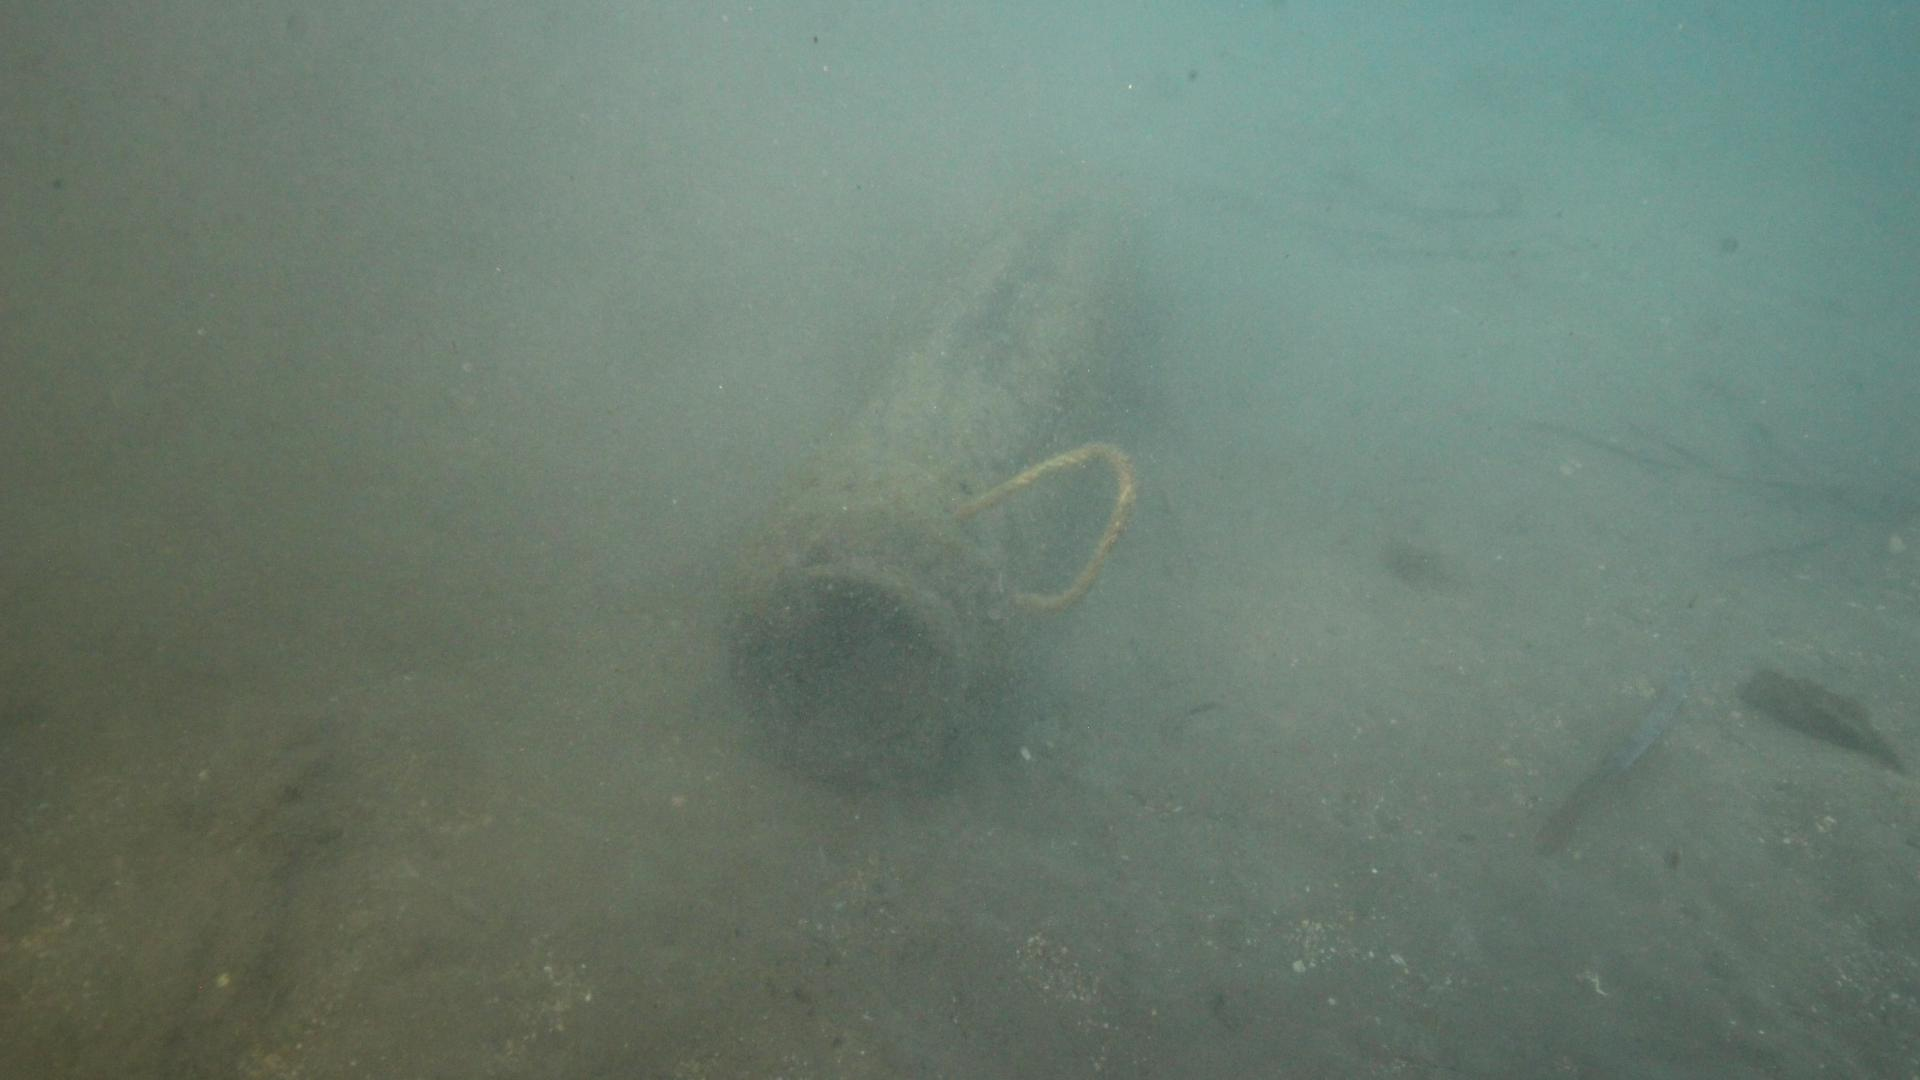eel fish trap: (737, 208, 1153, 796)
rope: (964, 425, 1133, 612)
